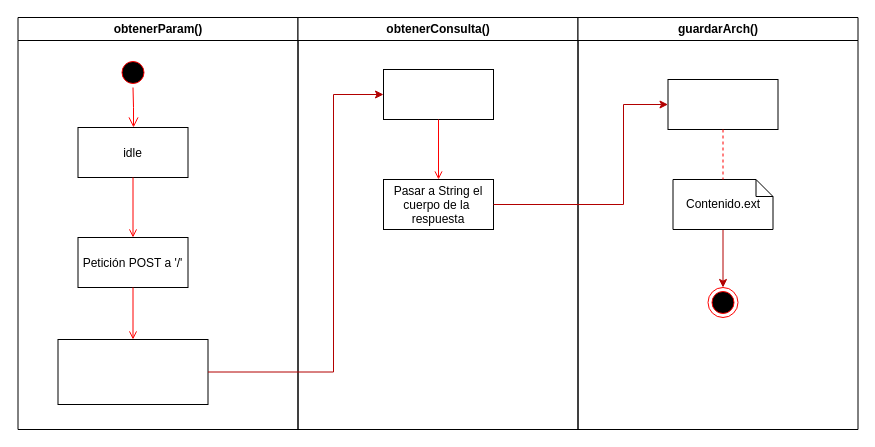
Some shapes in this 875 by 447 pixel diagram are drawn without their labels. The centre of each missing label's shape, as x and y in pixels:
Obtener cuerpo y extensión del archivo a guardar: point (722, 104)
Obtener mapeo del JSON a para obtener los parámetros de la petición.: point (132, 371)
Realizar petición a la API-Redalyc: point (438, 94)
